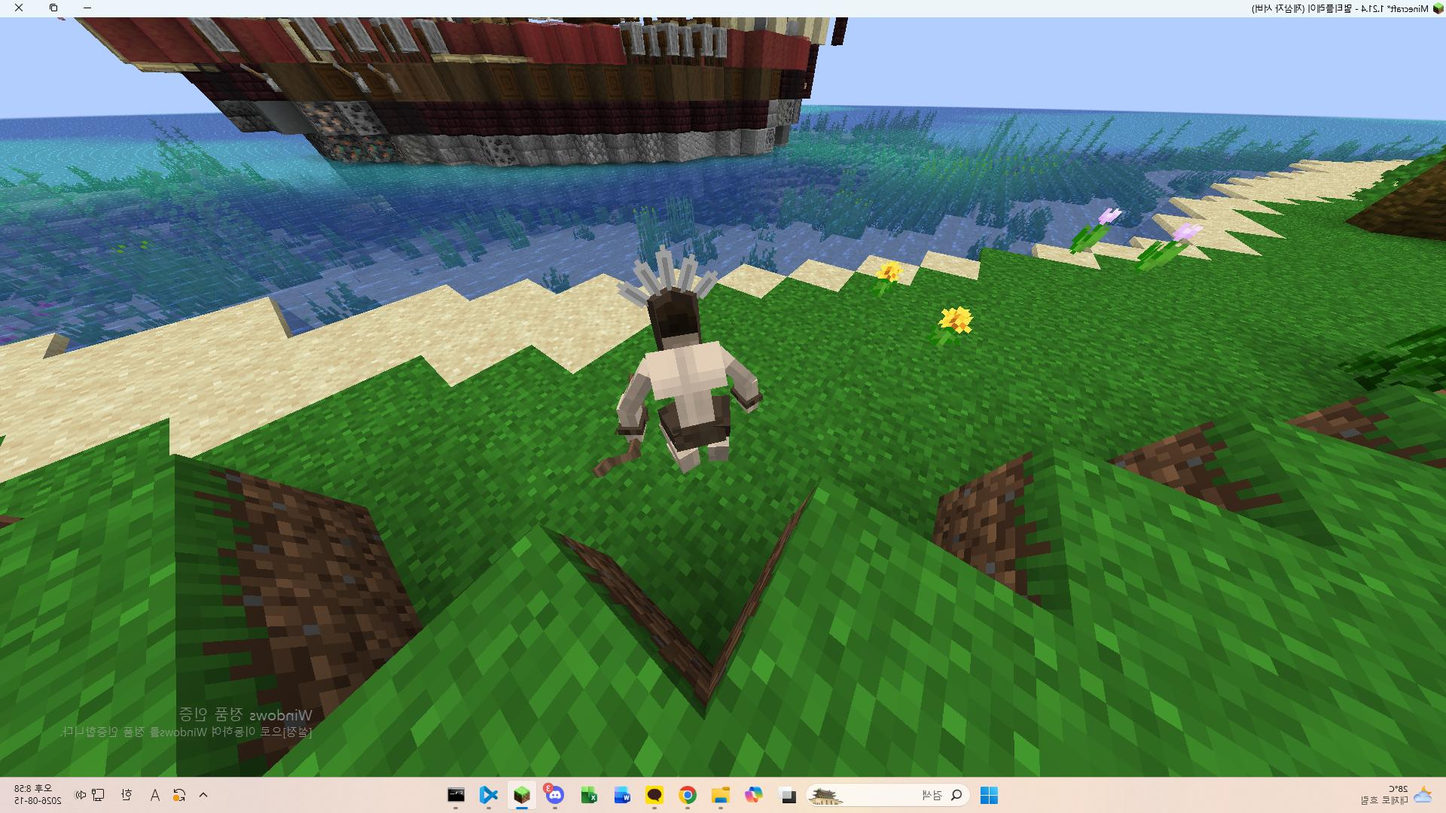bow_indian: (578, 258, 776, 497)
